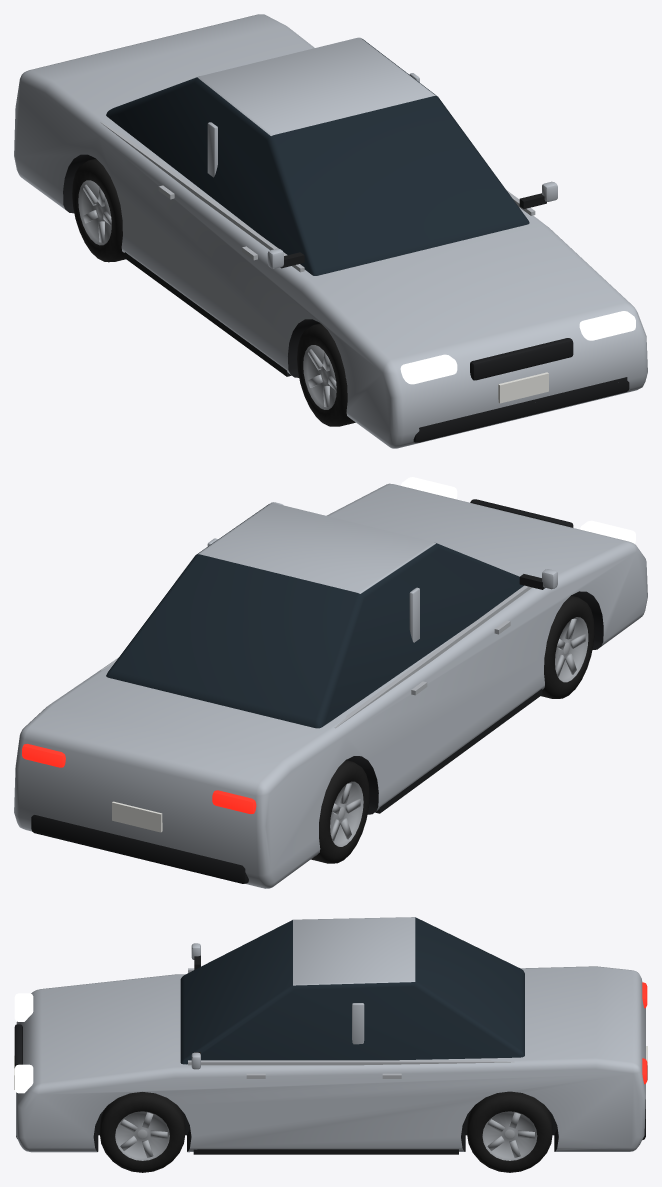
The model's file is sedan.glb.
3 views of the same model, one above another, from view 1: azimuth 30°, elevation 25°; view 2: azimuth 150°, elevation 25°; view 3: azimuth 270°, elevation 25° (orthographic). The views are drawn at different scales.
Parts seen in each view (by area): view 1: body, wheel_rr, wheel_fr; view 2: body, wheel_rr, wheel_fr; view 3: body, wheel_rl, wheel_fl.
Boxes of the visible parts, <box> form: body: <box>14,14,647,448</box>; wheel_rr: <box>72,158,125,262</box>; wheel_fr: <box>297,323,355,426</box>; body: <box>14,477,647,888</box>; wheel_rr: <box>311,760,369,863</box>; wheel_fr: <box>541,595,594,698</box>; body: <box>14,917,647,1154</box>; wheel_rl: <box>467,1091,552,1172</box>; wheel_fl: <box>99,1092,185,1172</box>.
Bounding box in the file's own units: 1.99 × 1.42 × 4.66.
